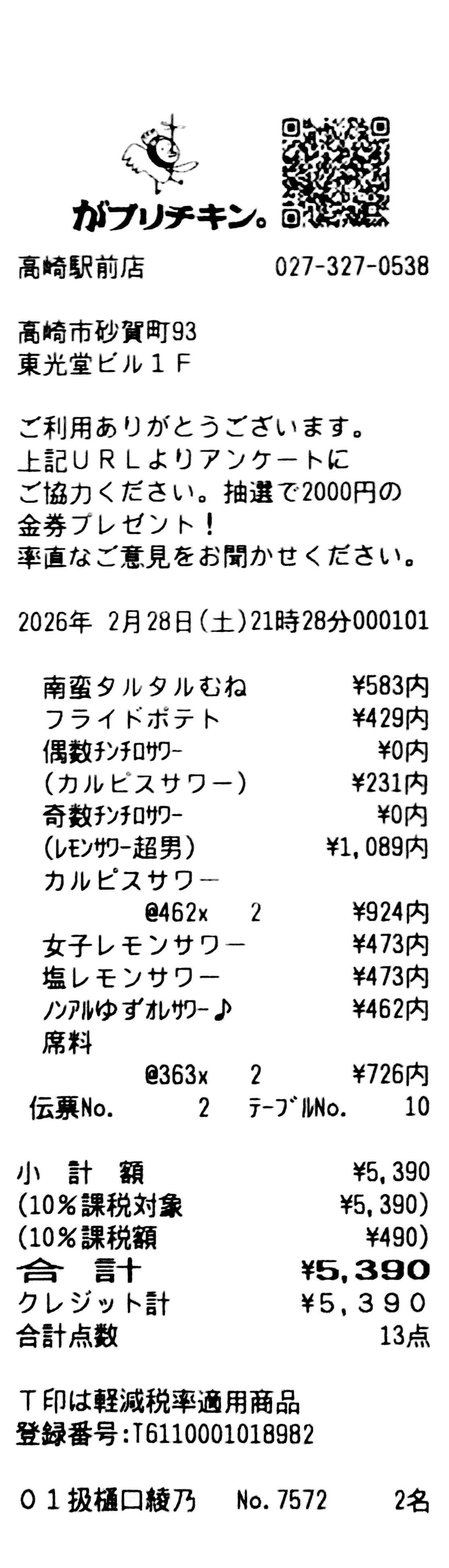Date: (17, 610, 192, 634)
Pay: (17, 1258, 431, 1283)
Shopname: (72, 199, 258, 232)
Telnum: (274, 255, 429, 276)
